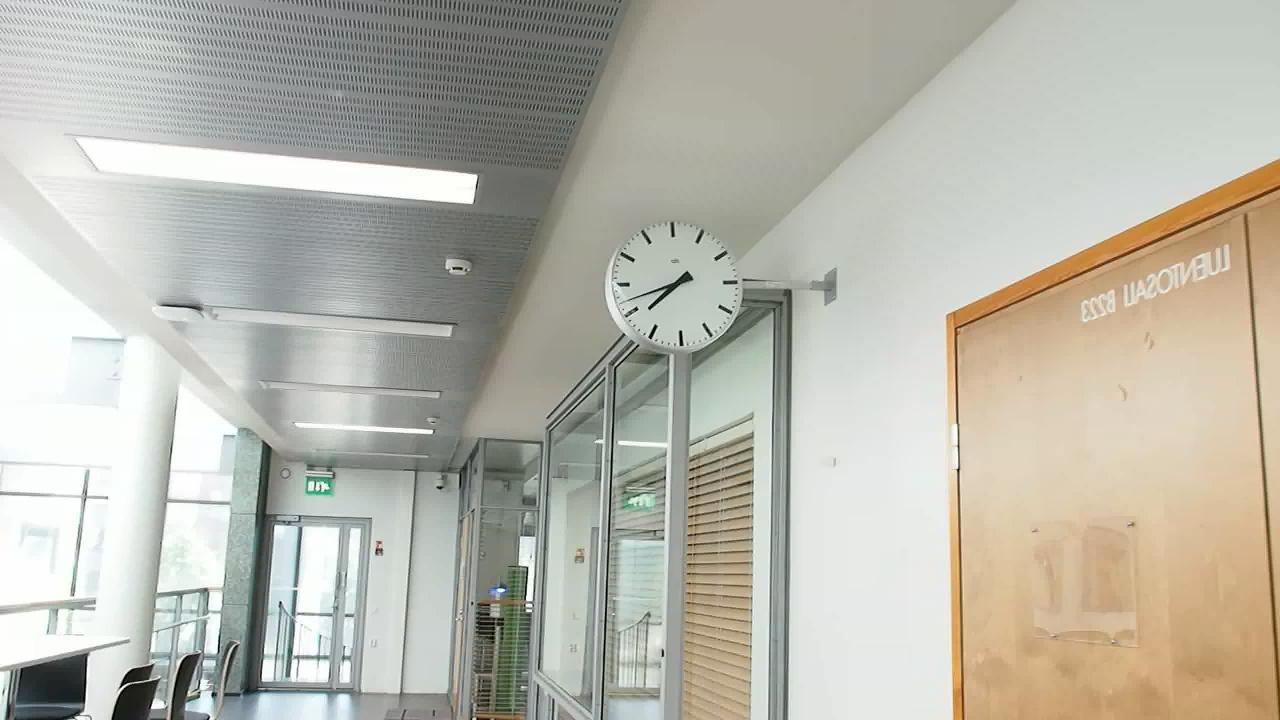clock: (600, 216, 748, 354)
